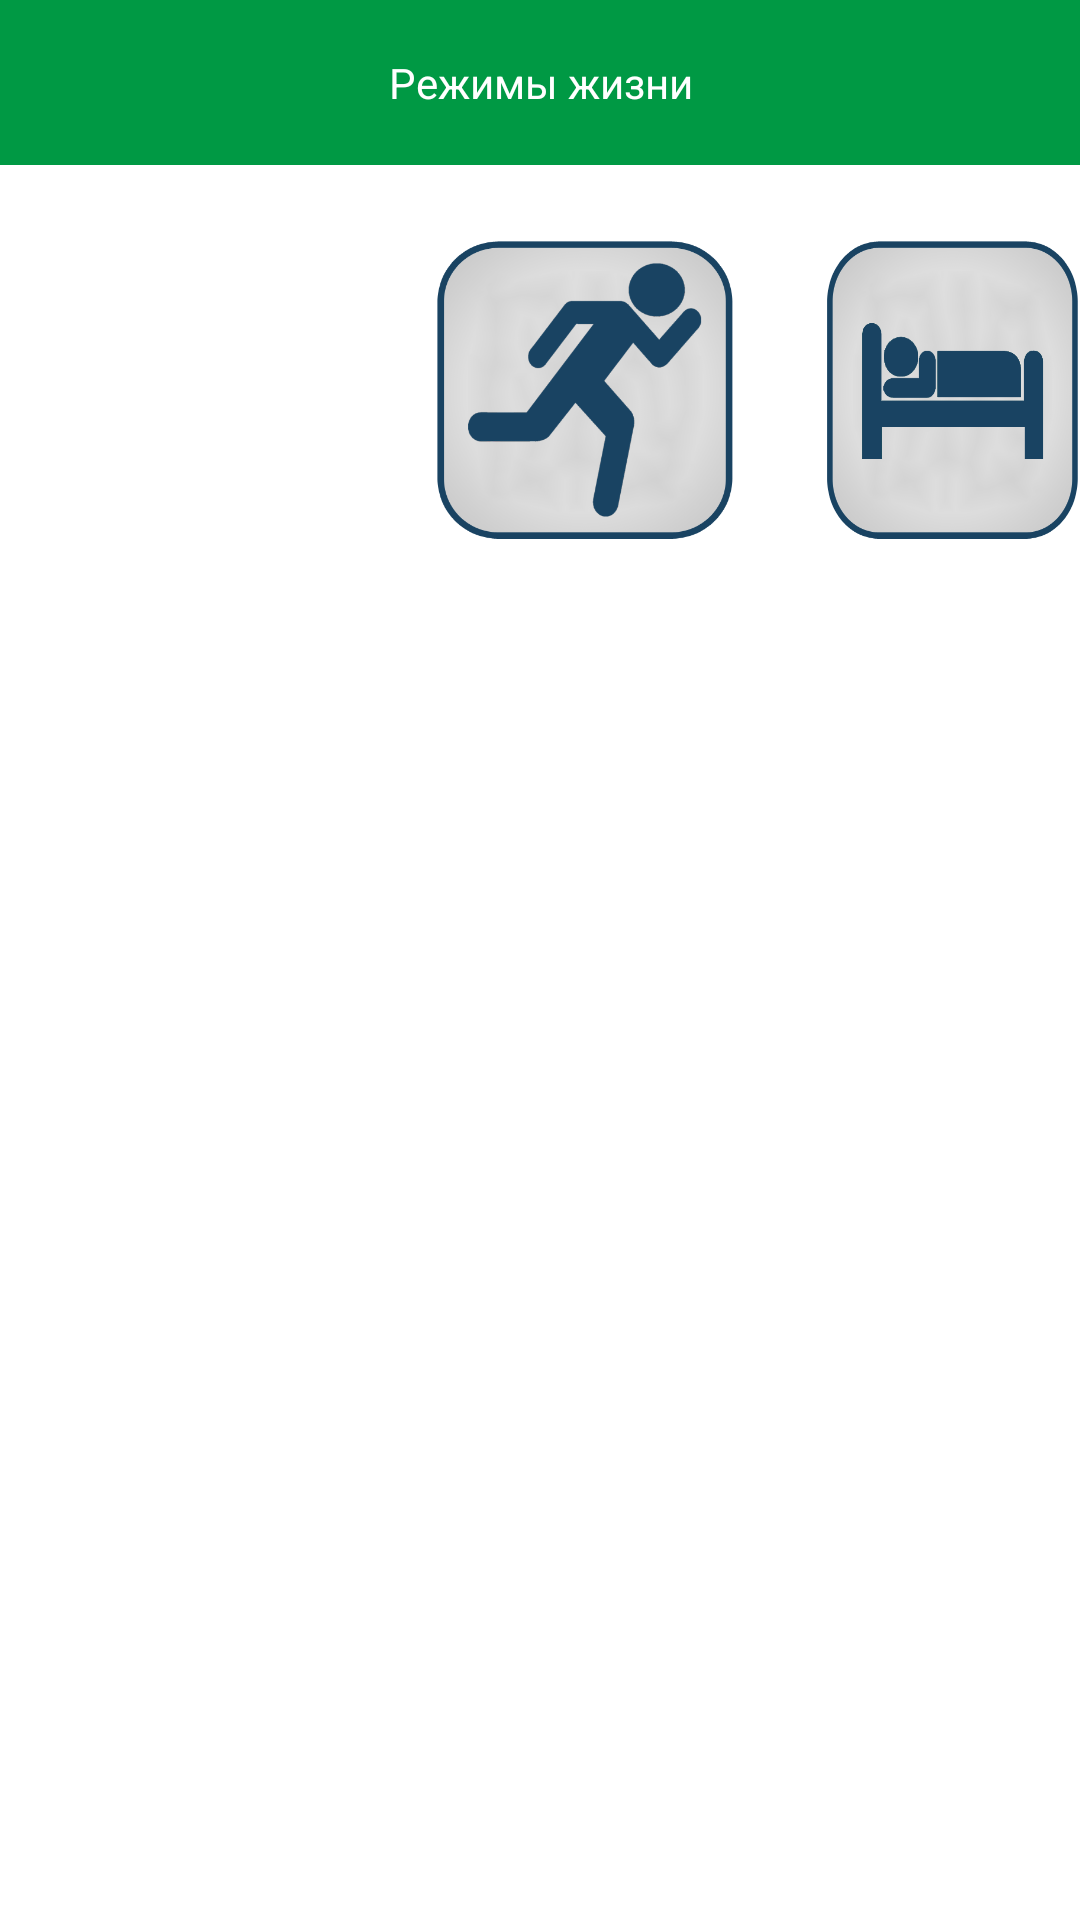

Icon click points for this 1080×1920 phone screenshot, format (x,y):
away off: (585,390)
sleep off: (952,390)
